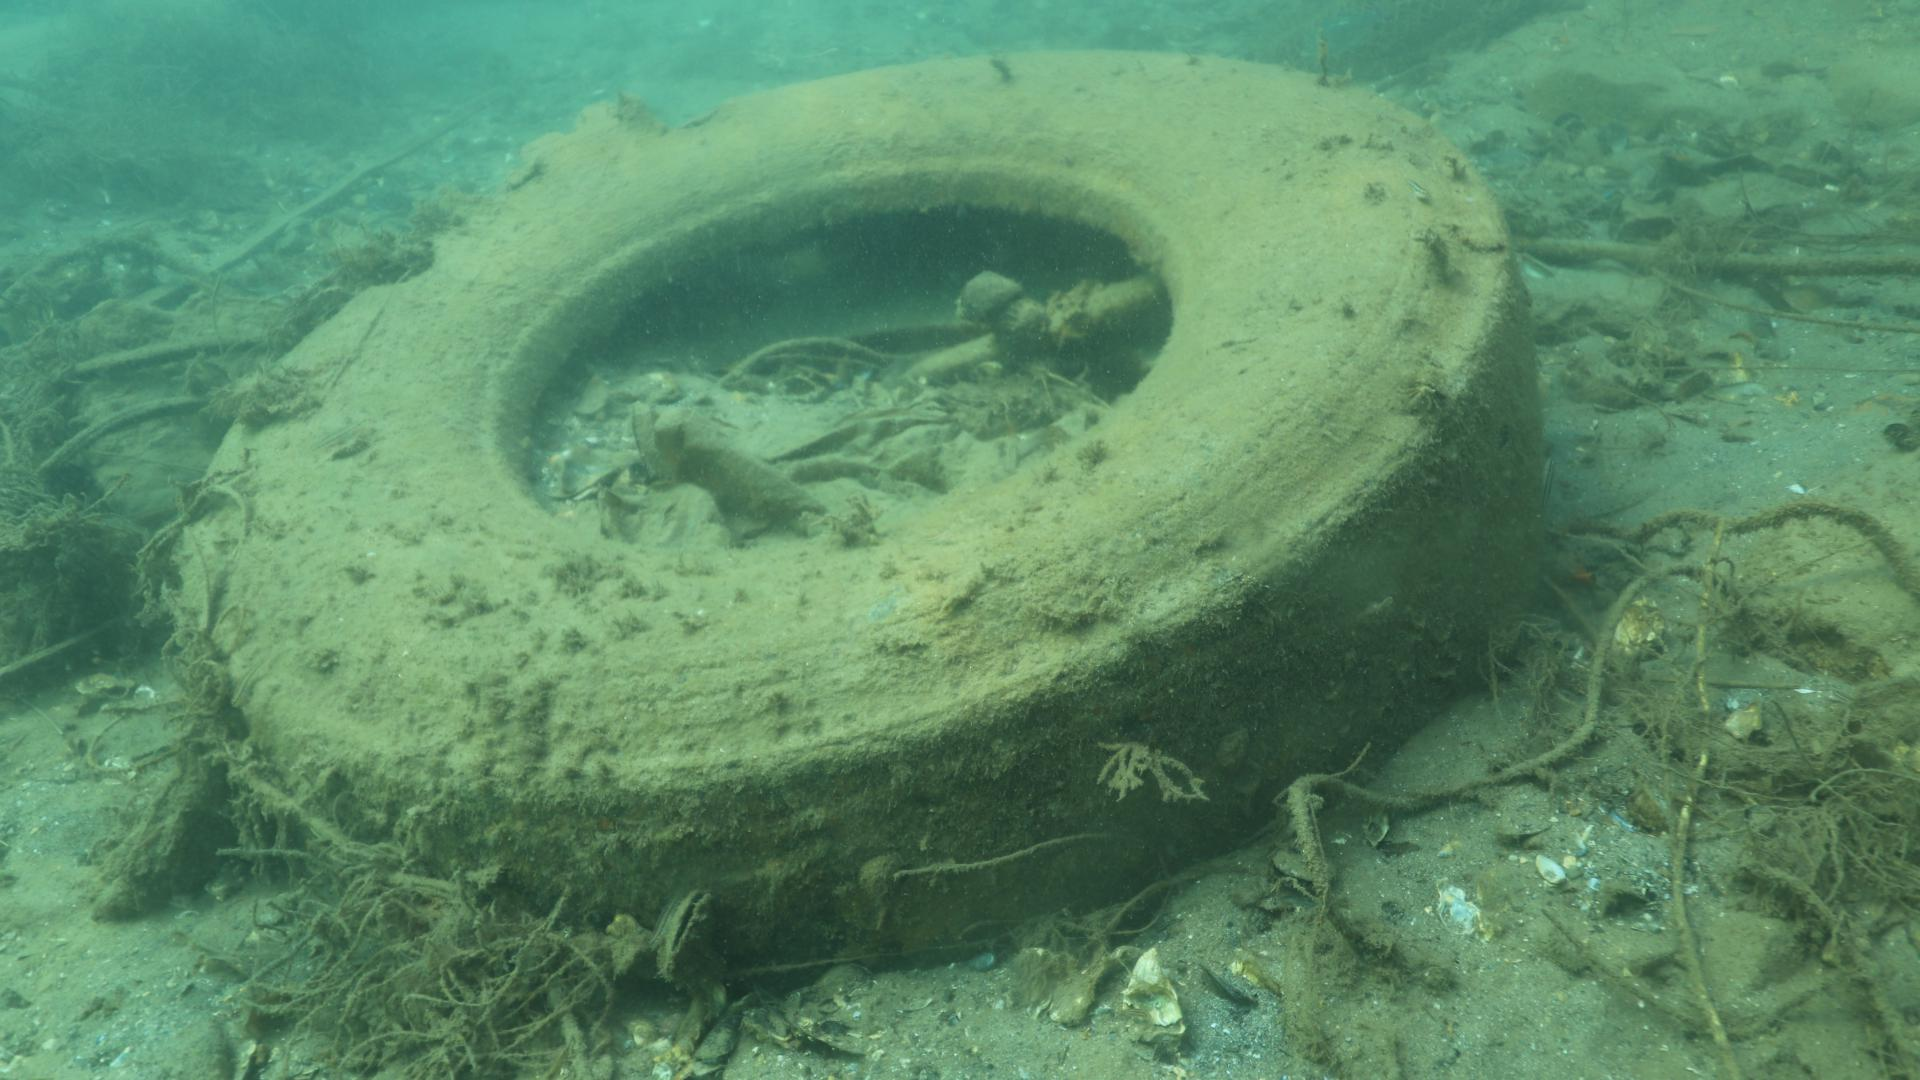tire: (178, 47, 1545, 993)
